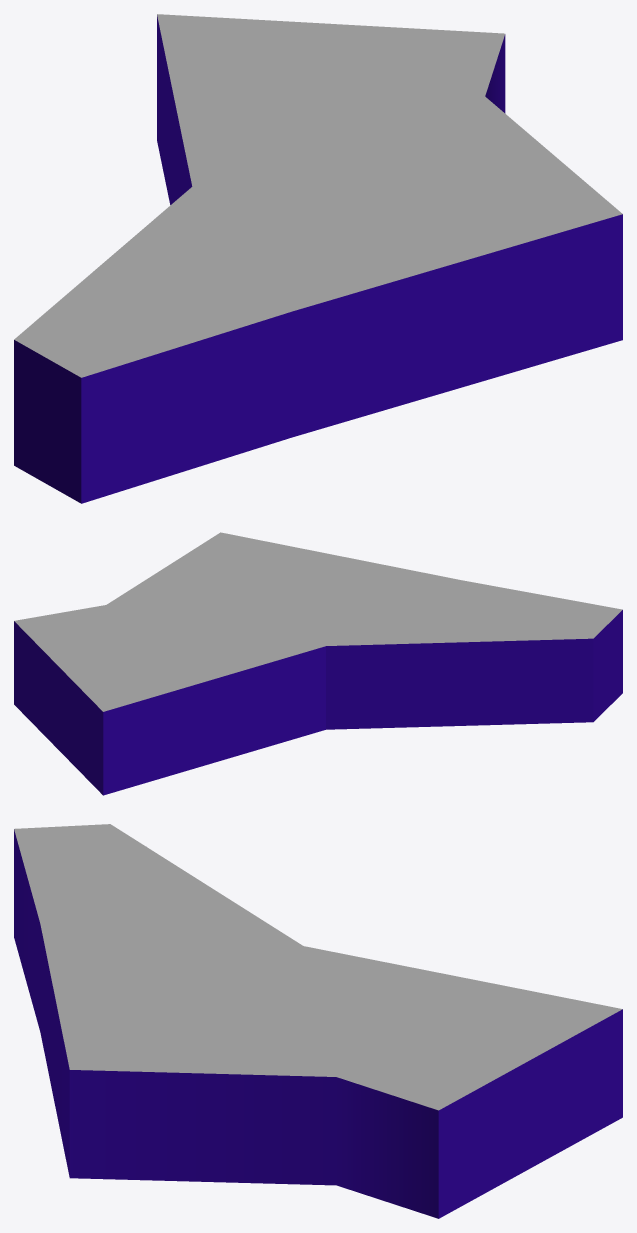
The model's file is Shard_S_8_N_1.fbx.
The picture shows the model from 3 angles, top to bottom: view 1: azimuth 30°, elevation 25°; view 2: azimuth 150°, elevation 25°; view 3: azimuth 270°, elevation 25°; orthographic projection. The views are drawn at different scales.
Parts seen in each view (by area): view 1: pCube1; view 2: pCube1; view 3: pCube1.
Boxes of the visible parts, x1,y1,x2,y2 form: pCube1: (14, 14, 622, 503); pCube1: (14, 532, 622, 795); pCube1: (14, 824, 622, 1218).
Size of the model in its own units: 2.37 by 0.4188 by 2.13.
